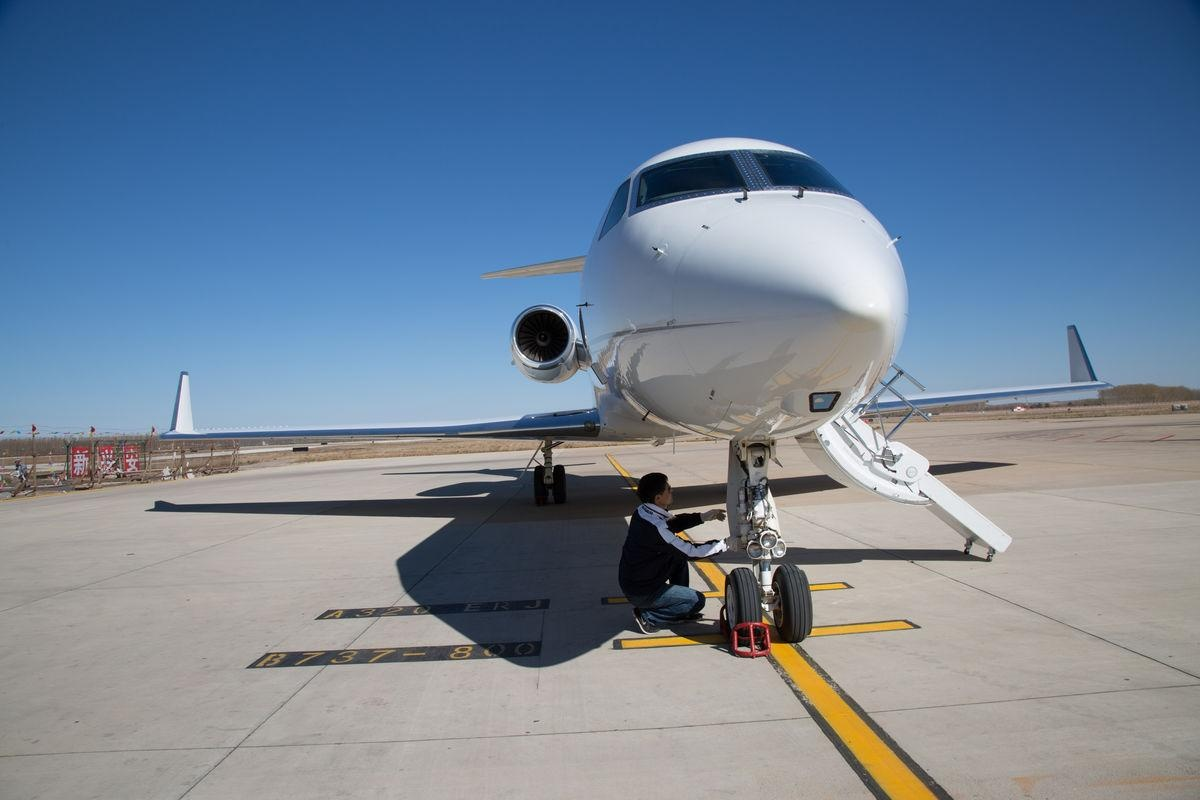airplane: (160, 134, 1131, 645)
person: (597, 470, 735, 640)
